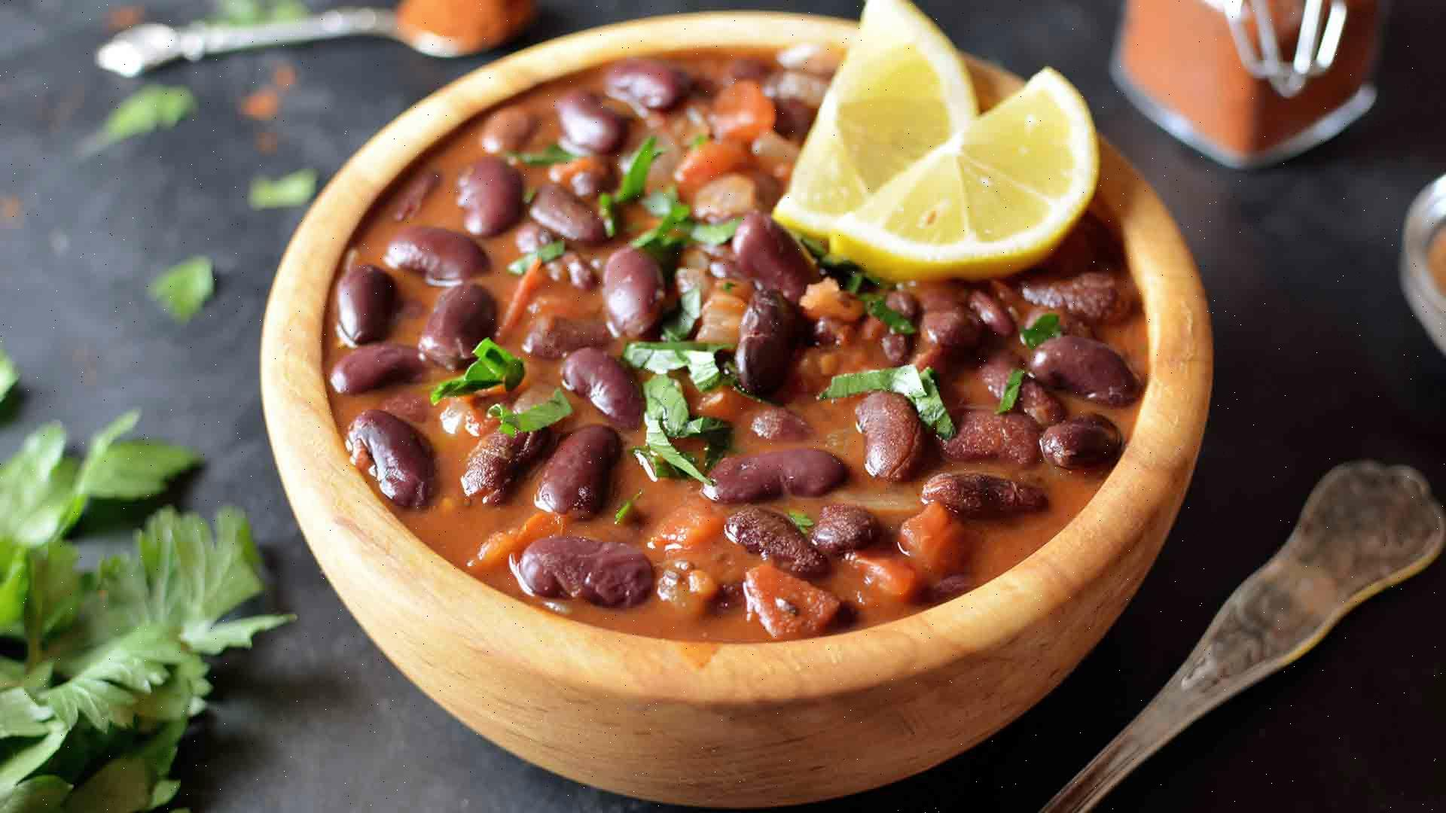rajma: (326, 275, 1117, 687)
